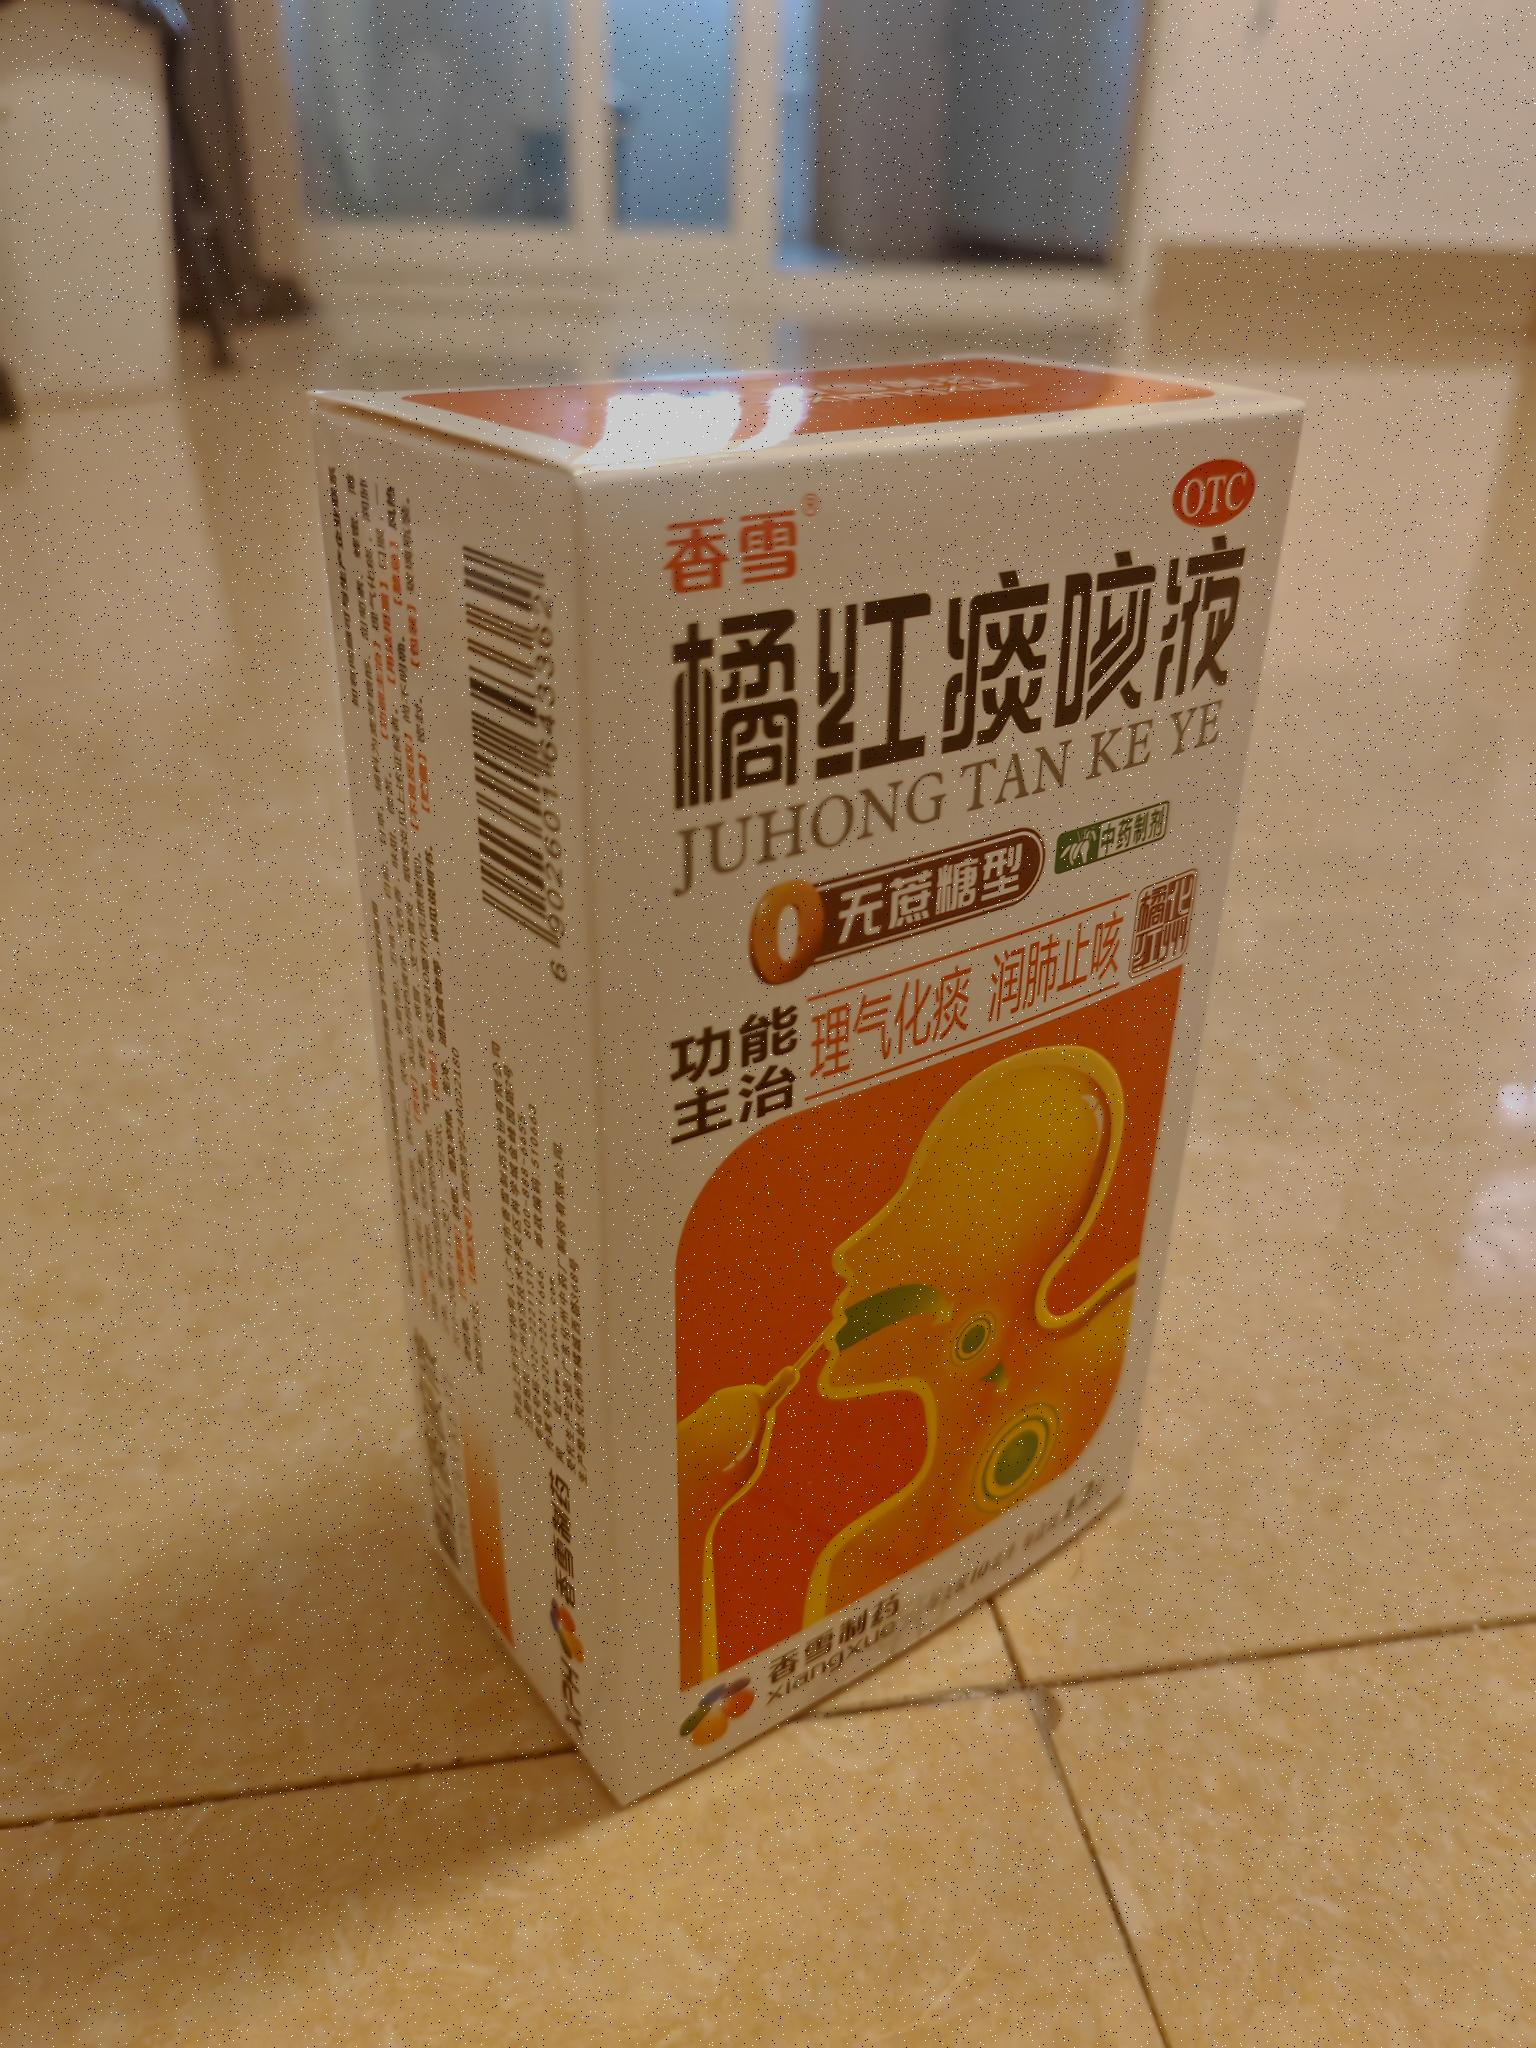Medicine1: (287, 337, 1333, 1822)
